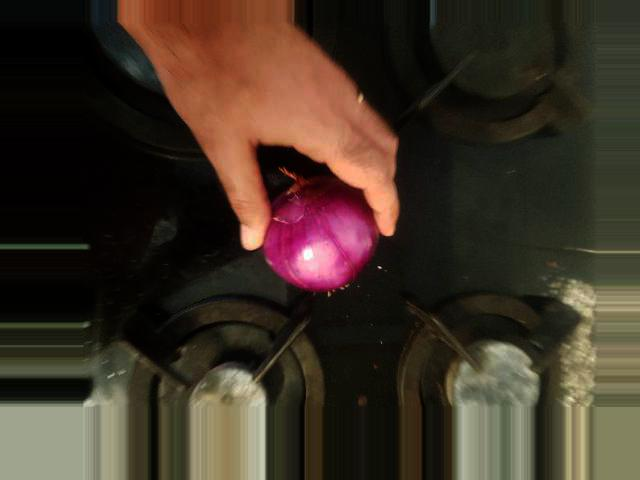onion: (366, 234, 481, 363)
